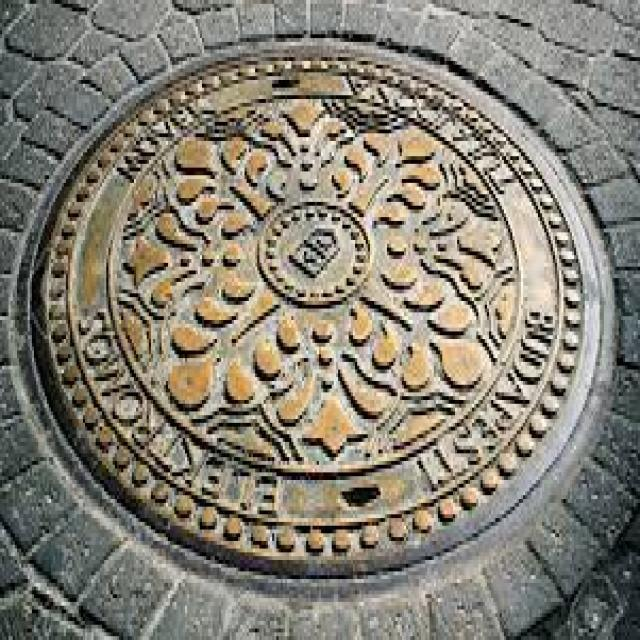manhole: (36, 44, 608, 575)
